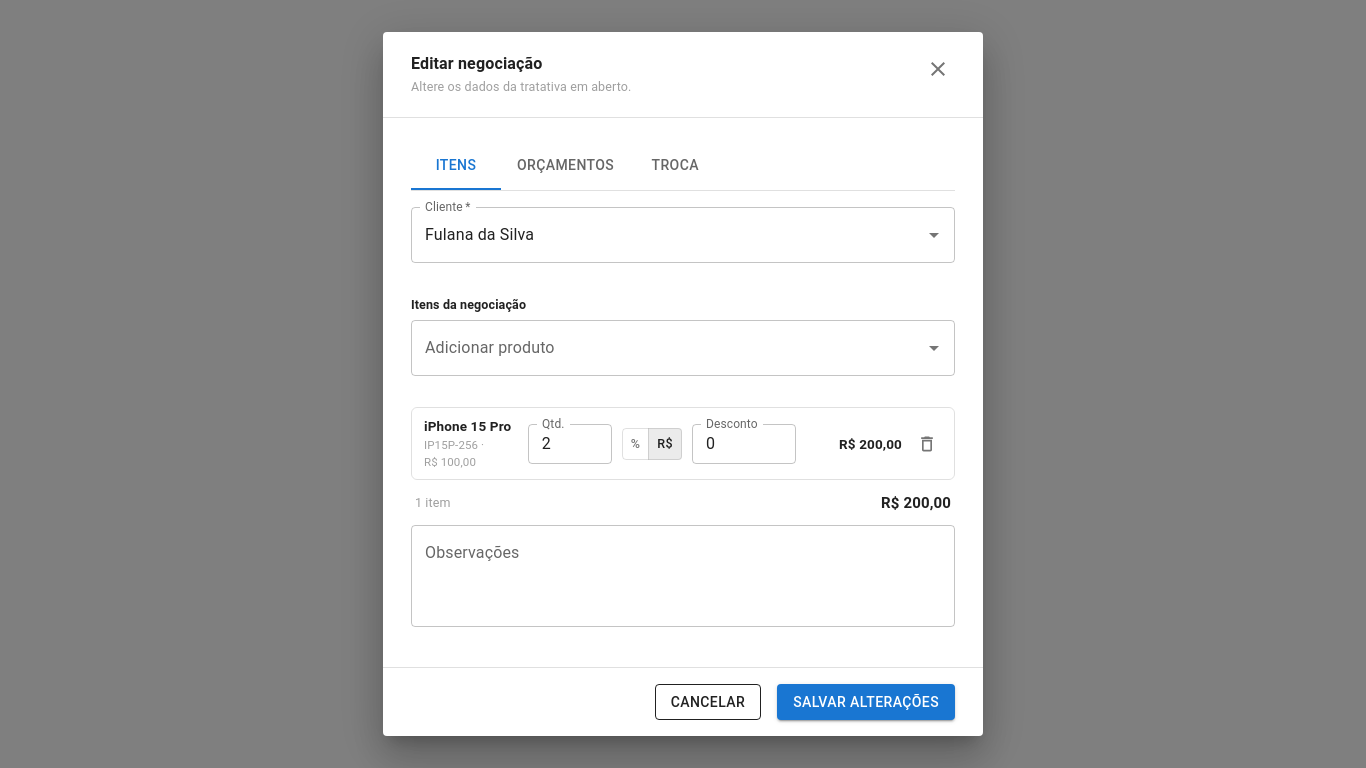
Test: NegotiationFormModal — aba Troca (spec 007, ticket 01) › a aba Troca fica ao lado de Itens e Orçamentos e lista os aparelhos
Click the tab "Troca".
click(675, 166)  # box [630,142,720,190]
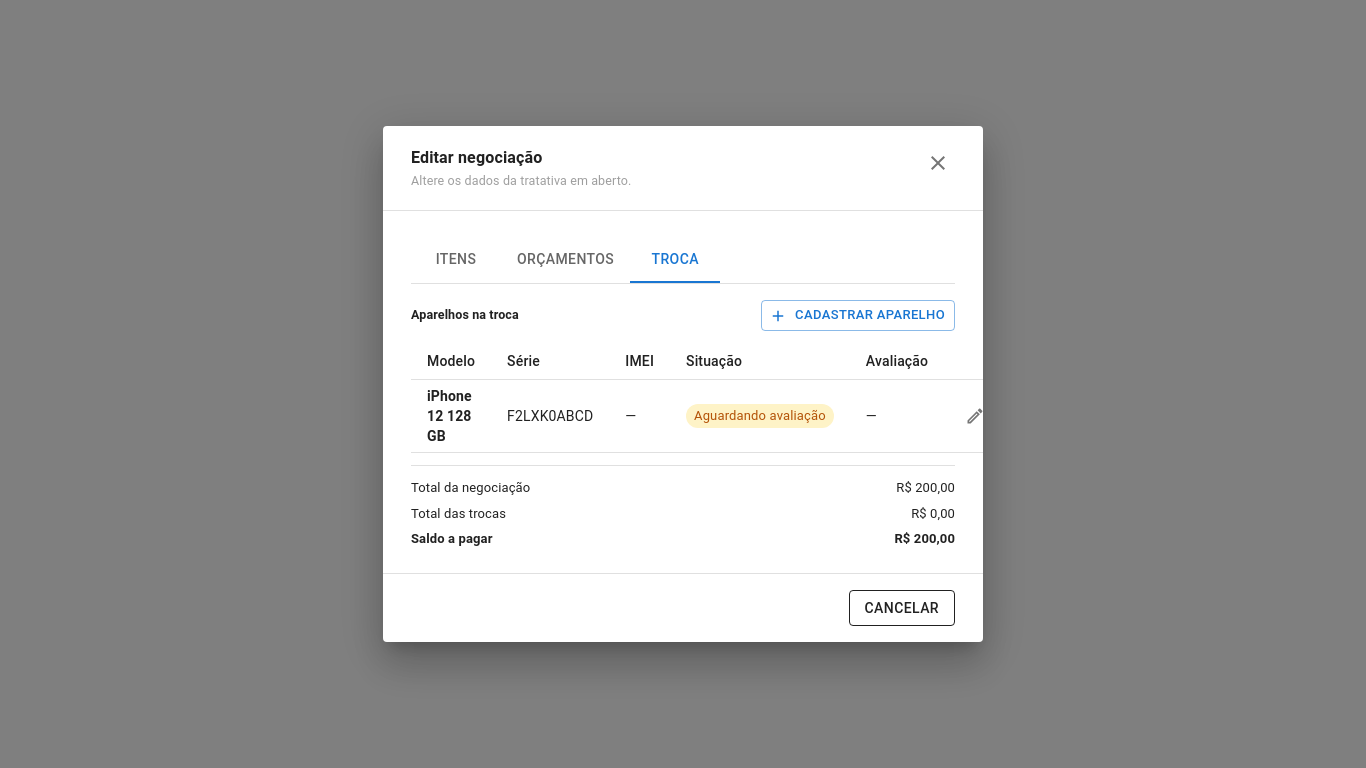
Expected: the text "iPhone 12 128 GB" is shown, [411,380,491,453]
Expected: the button "Cadastrar aparelho" is shown, [761,300,955,331]
Expected: the button "Salvar alterações" is gone
